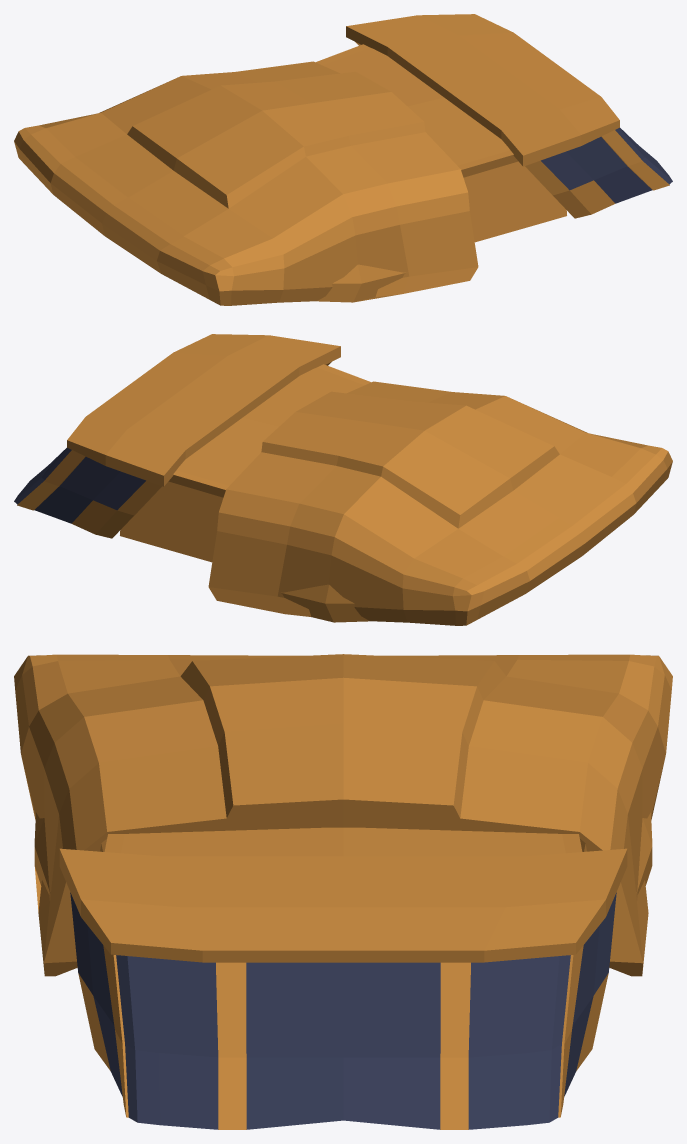
The model's file is Car_Roof.fbx.
3 views of the same model, one above another, from view 1: azimuth 30°, elevation 25°; view 2: azimuth 150°, elevation 25°; view 3: azimuth 270°, elevation 25° (orthographic). The views are drawn at different scales.
Parts seen in each view (by area): view 1: Car_Roof; view 2: Car_Roof; view 3: Car_Roof.
Boxes of the visible parts, x1,y1,x2,y2 form: Car_Roof: (14,14,672,305); Car_Roof: (14,334,672,625); Car_Roof: (14,654,672,1129).
Size of the model in its own units: 217 by 315 by 75.85.
